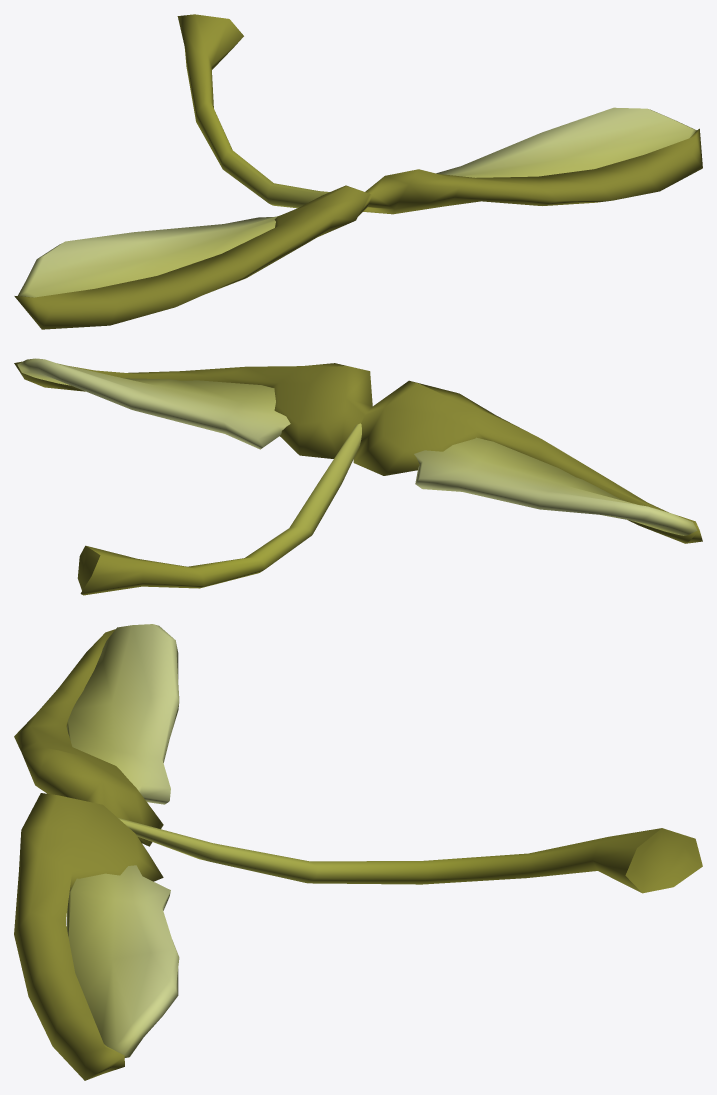
Rendered from ST_Obstacle_01_DoNotUse.fbx.
The picture shows the model from 3 angles, top to bottom: view 1: azimuth 30°, elevation 25°; view 2: azimuth 150°, elevation 25°; view 3: azimuth 270°, elevation 25°; orthographic projection. The views are drawn at different scales.
Parts seen in each view (by area): view 1: Helicopter; view 2: Helicopter; view 3: Helicopter.
Boxes of the visible parts, x1,y1,x2,y2 form: Helicopter: [14, 14, 702, 329]; Helicopter: [14, 358, 702, 595]; Helicopter: [14, 624, 702, 1080].
Size of the model in its own units: 207 by 26.75 by 140.
